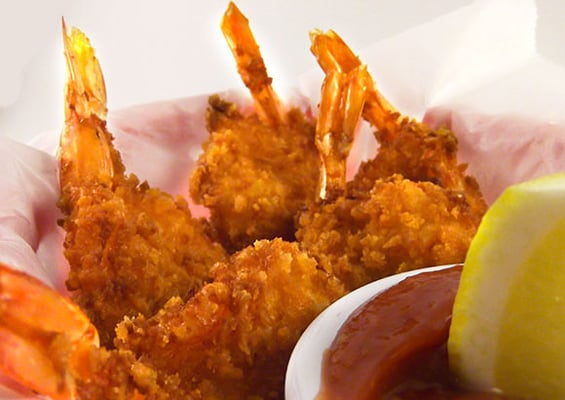sushi: (188, 3, 476, 256)
